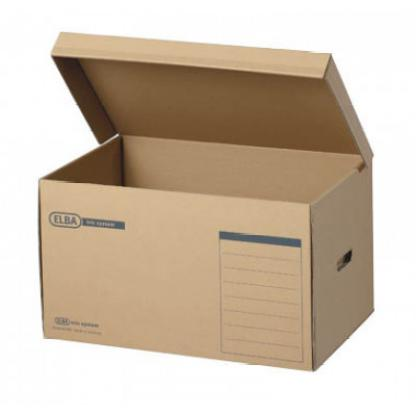box: (34, 28, 375, 373)
